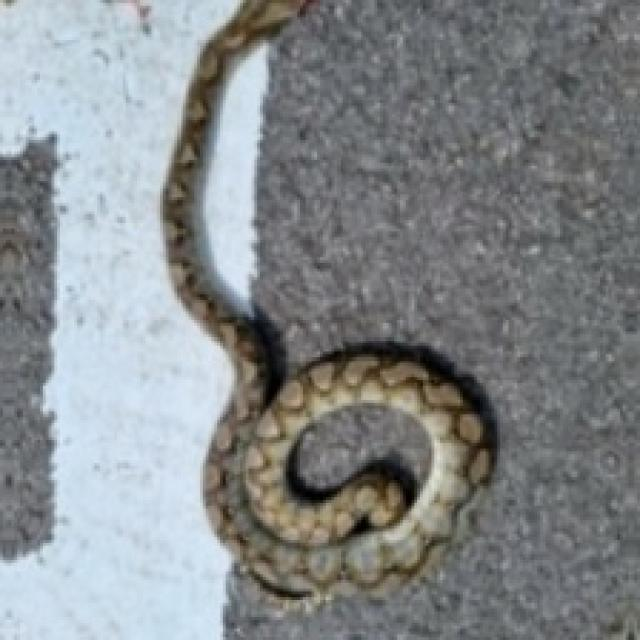reticulated python: (163, 0, 494, 609)
